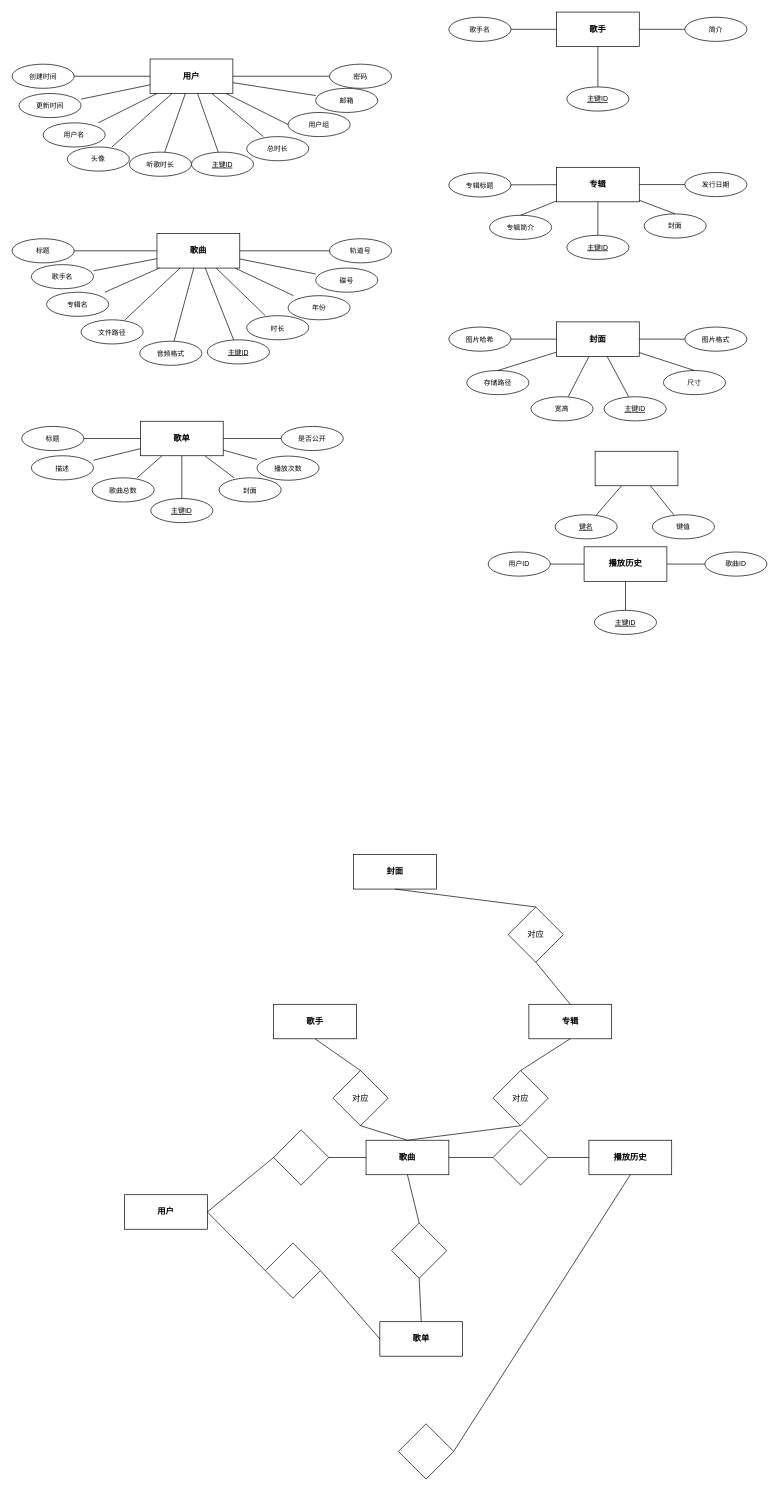
Some shapes in this 779 by 1491 pixel diagram are drawn without their labels. Here are the shapes that lost their labels. From the top down, the box of each, then its label:
(594, 451, 678, 486): 系统信息
(273, 1129, 329, 1185): 播放/收藏
(492, 1129, 548, 1185): 被播放
(265, 1242, 321, 1298): 创建/收藏
(391, 1222, 447, 1278): 收录
(398, 1423, 454, 1479): 听歌
